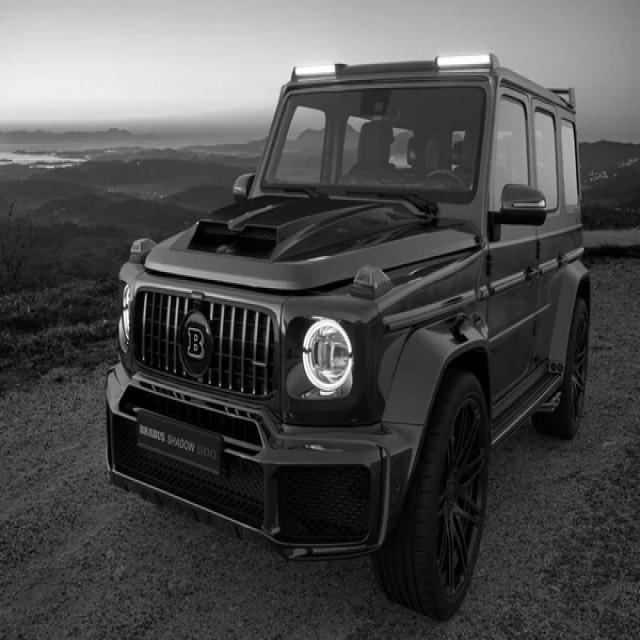Car: (106, 54, 592, 620)
